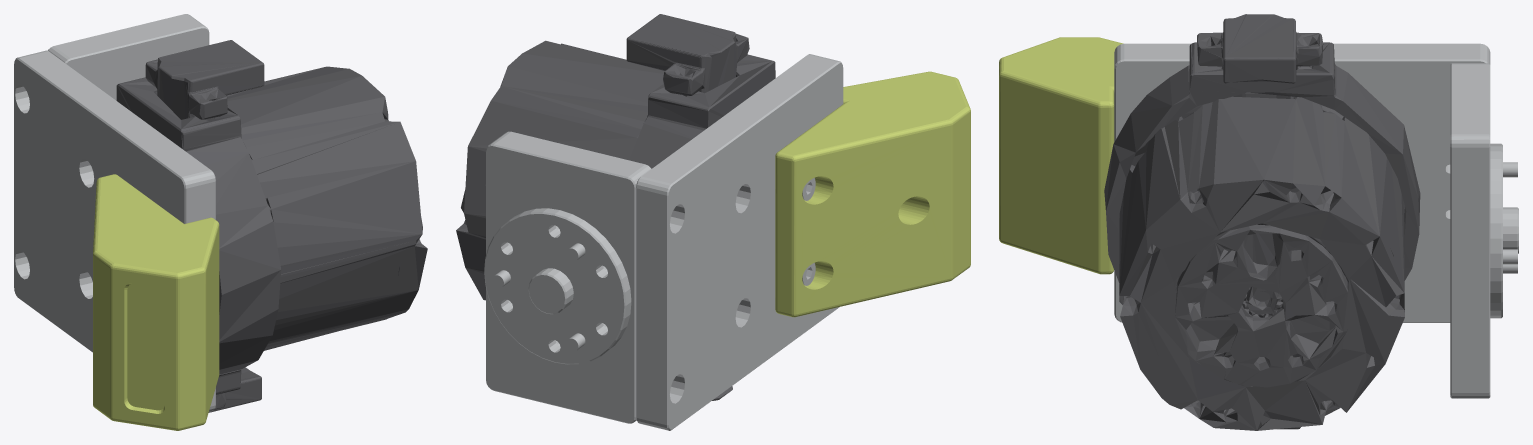
The picture shows the model from 3 angles, left to right: view 1: azimuth 30°, elevation 25°; view 2: azimuth 150°, elevation 25°; view 3: azimuth 270°, elevation 25°; orthographic projection. The views are drawn at different scales.
Parts seen in each view (by area): view 1: motor_6, cnc5, pla5_green; view 2: cnc5, pla5_green, motor_6; view 3: motor_6, cnc5, pla5_green.
Part boxes in pixels (x1,y1,x2,y2): motor_6: (116, 40, 427, 412); cnc5: (14, 14, 215, 411); pla5_green: (93, 174, 219, 430); cnc5: (484, 54, 843, 430); pla5_green: (775, 71, 970, 317); motor_6: (456, 14, 775, 400); motor_6: (1104, 14, 1420, 430); cnc5: (1114, 43, 1518, 398); pla5_green: (999, 37, 1123, 274).
Size of the model in its own units: 0.0883 by 0.0818 by 0.1037.
